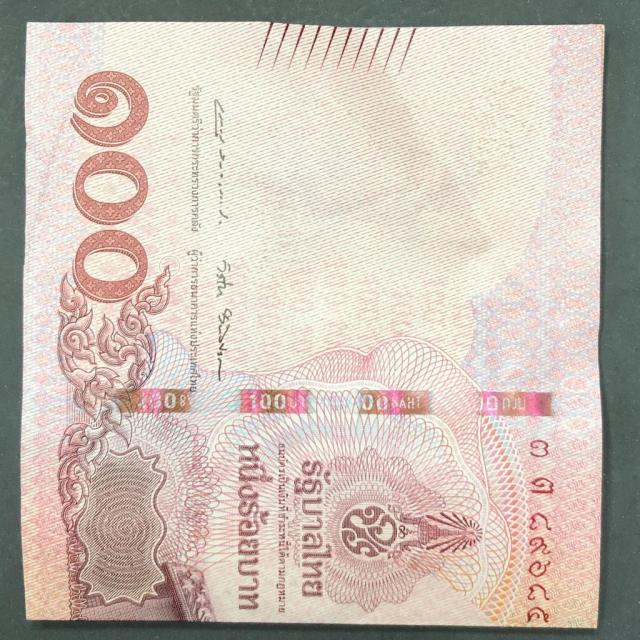THAI100: (21, 22, 603, 628)
